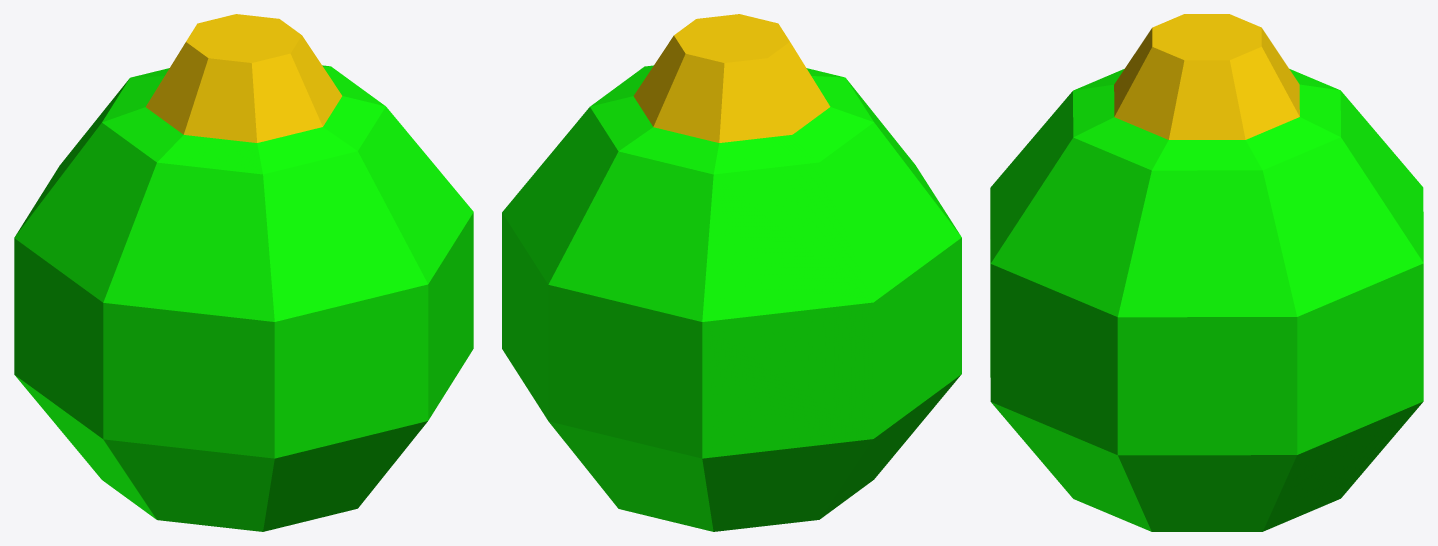
The model's file is Bola de natau 1.fbx.
3 renders of one model, left to right at view 1: azimuth 30°, elevation 25°; view 2: azimuth 150°, elevation 25°; view 3: azimuth 270°, elevation 25°, orthographic.
Parts seen in each view (by area): view 1: bolas bola 1; view 2: bolas bola 1; view 3: bolas bola 1.
Boxes of the visible parts, x1,y1,x2,y2 form: bolas bola 1: (14,14,473,531); bolas bola 1: (502,14,961,531); bolas bola 1: (990,14,1423,531).
Bounding box in the file's own units: 97.67 × 111 × 97.67.
